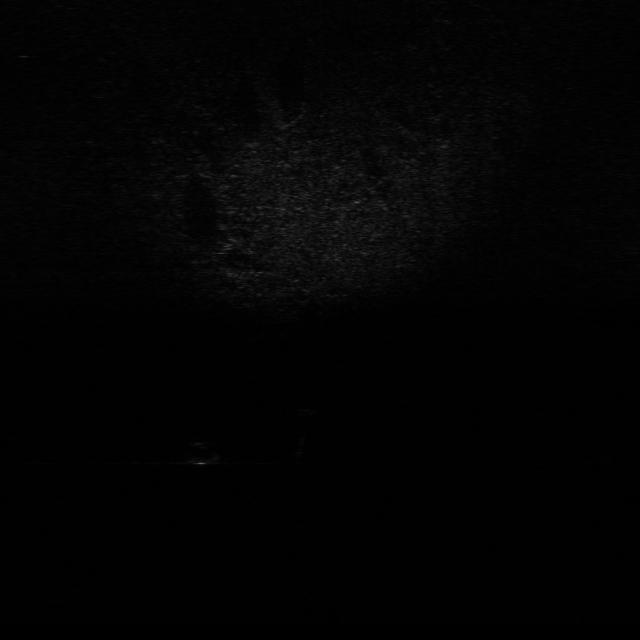ball: (178, 435, 228, 468)
cube: (288, 406, 323, 425)
